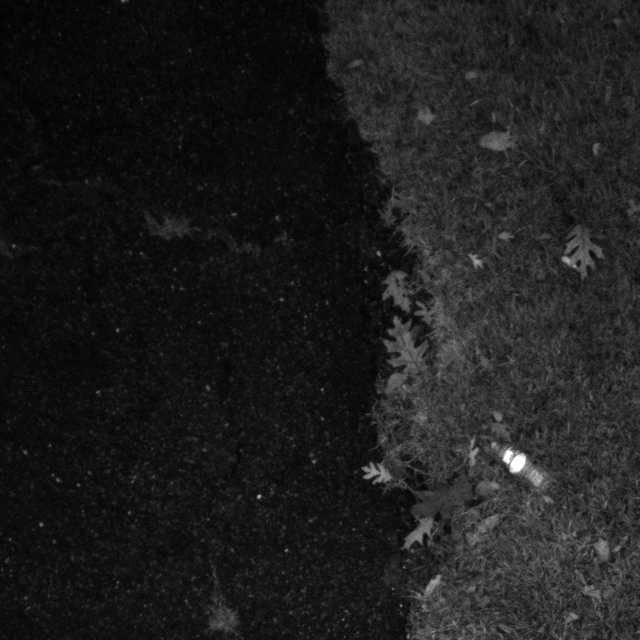bottle: (483, 435, 561, 492)
